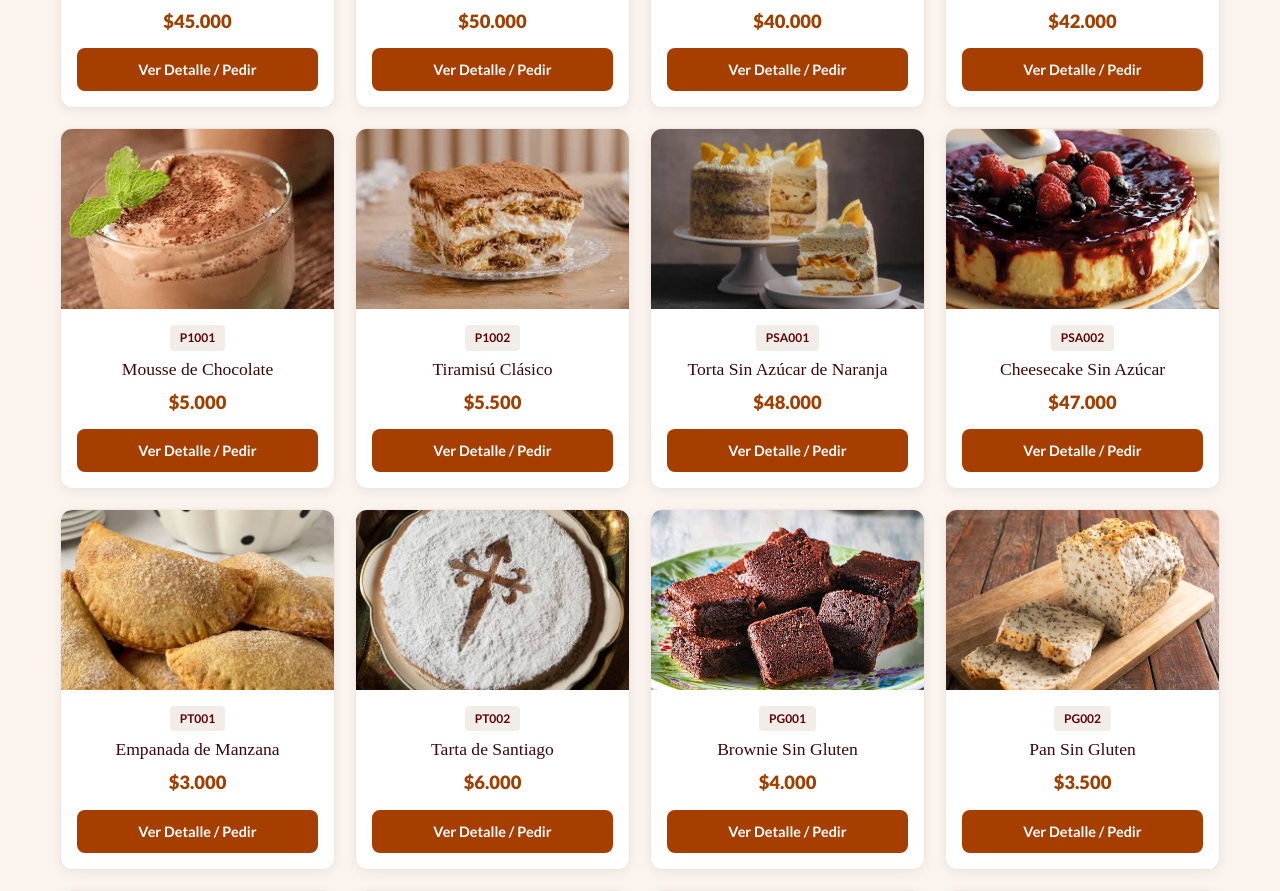
Test: Catálogo - filtro Tradicional y recetas › Debe mostrar la receta propia de cada producto en el modal
This screenshot has width=1280, height=891.
(page scrolled)
What coordinates should you click on to do the following:
click the button "Ver Detalle / Pedir" below "5.500"
I would click on:
 (492, 451)
Its box is [372, 429, 613, 472].
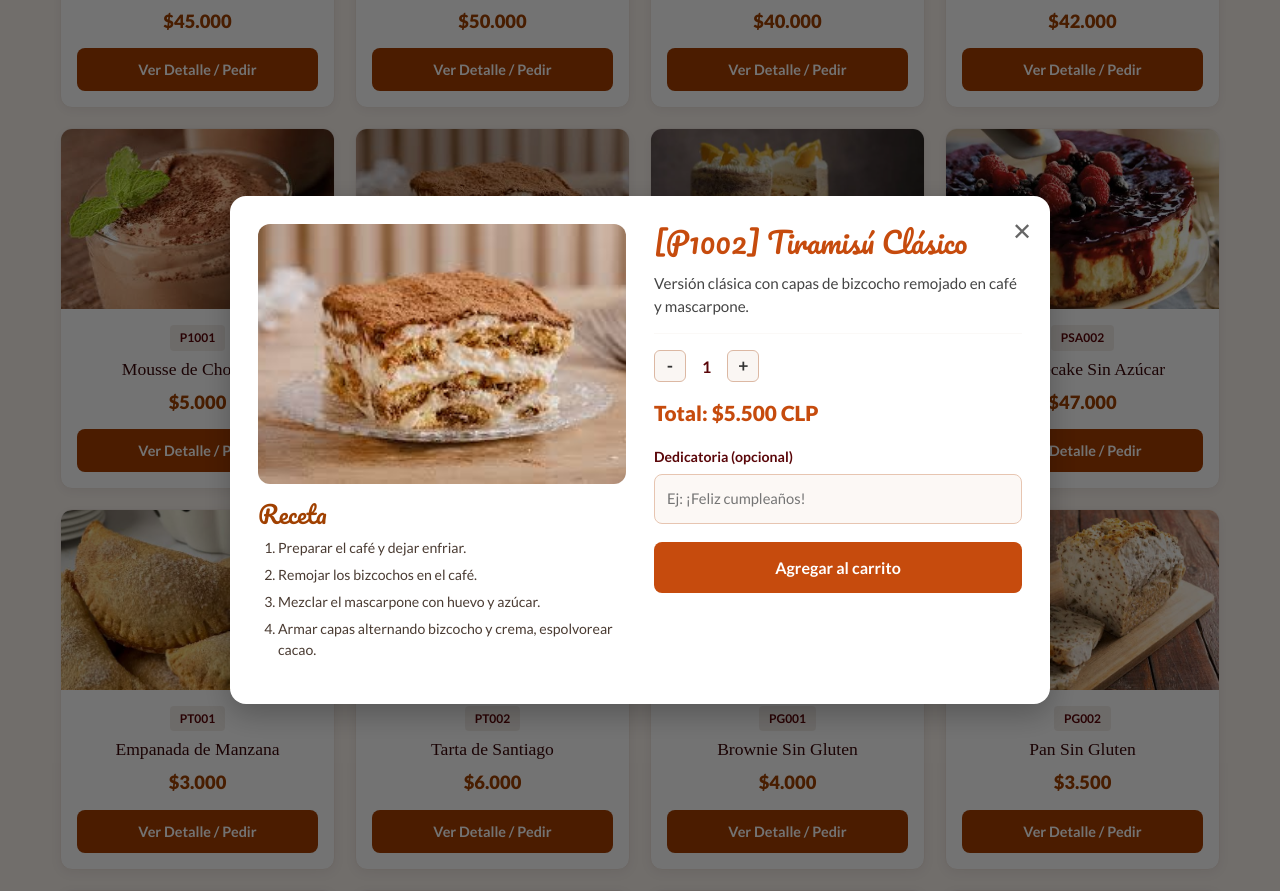
Expected: the list item "Preparar el café y dejar enfriar." is shown, [278, 539, 466, 556]
